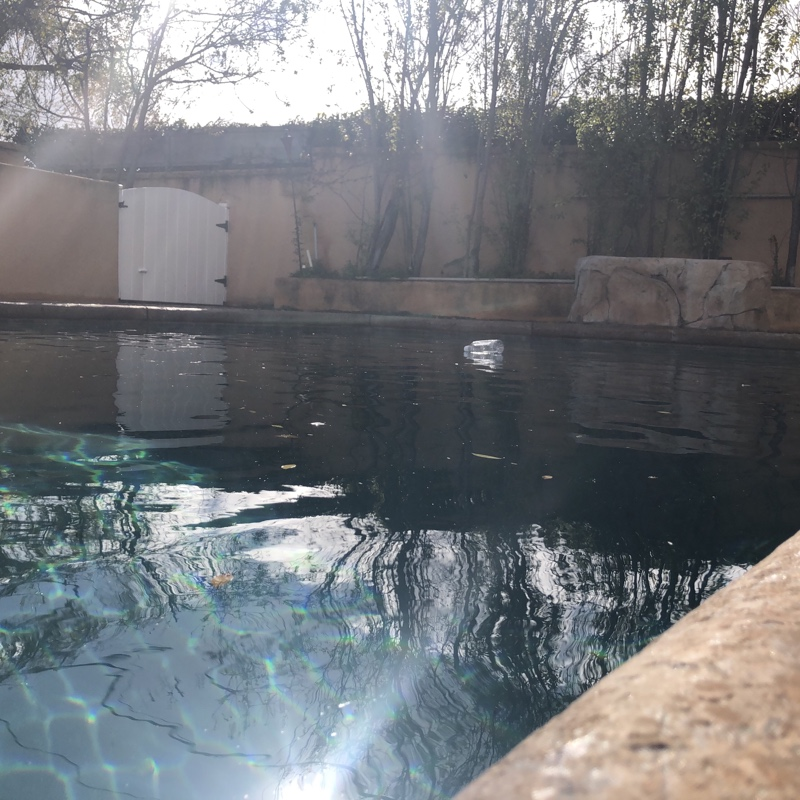Plastic Bottle: (460, 336, 504, 356)
